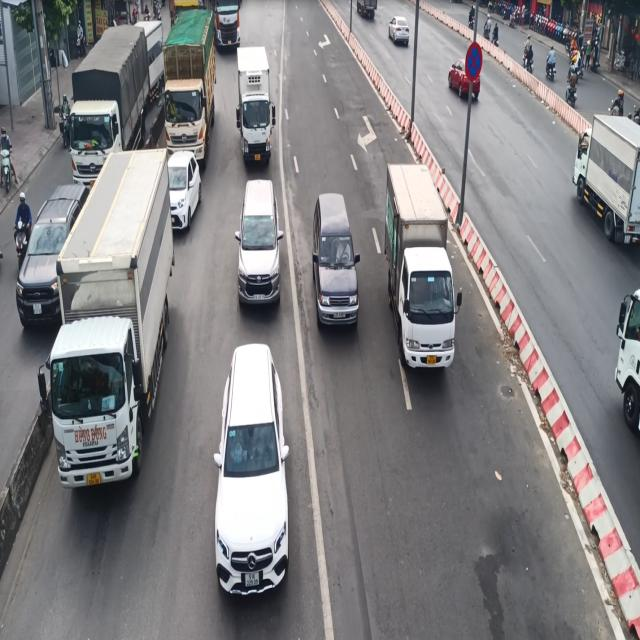car: (214, 338, 295, 612), (230, 179, 296, 301), (312, 184, 364, 338)
truck: (51, 149, 179, 507), (381, 161, 461, 375), (157, 3, 216, 156), (233, 46, 277, 166)
